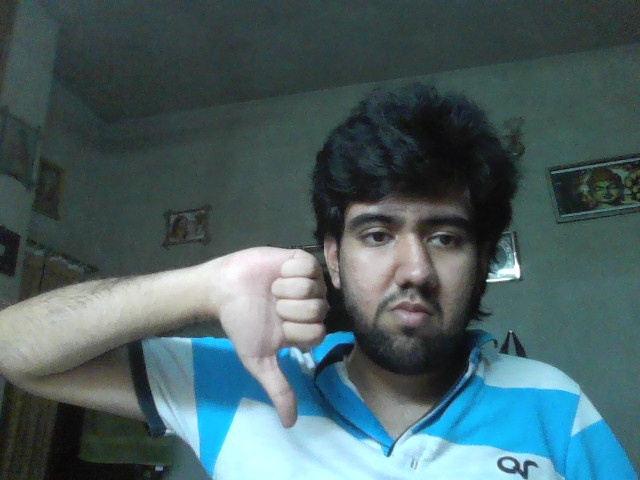NotOk: (222, 245, 329, 428)
